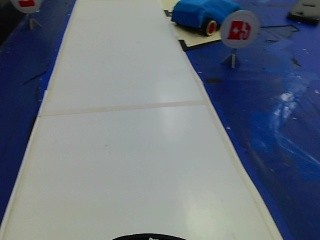battery: (222, 12, 262, 49)
